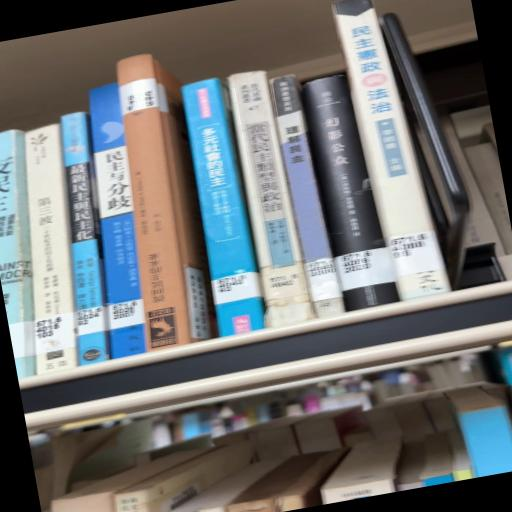book: (332, 0, 451, 300), (301, 75, 399, 311), (227, 70, 314, 326), (181, 78, 264, 336), (89, 82, 145, 358), (60, 112, 109, 364)
reverse: (116, 54, 191, 352)
